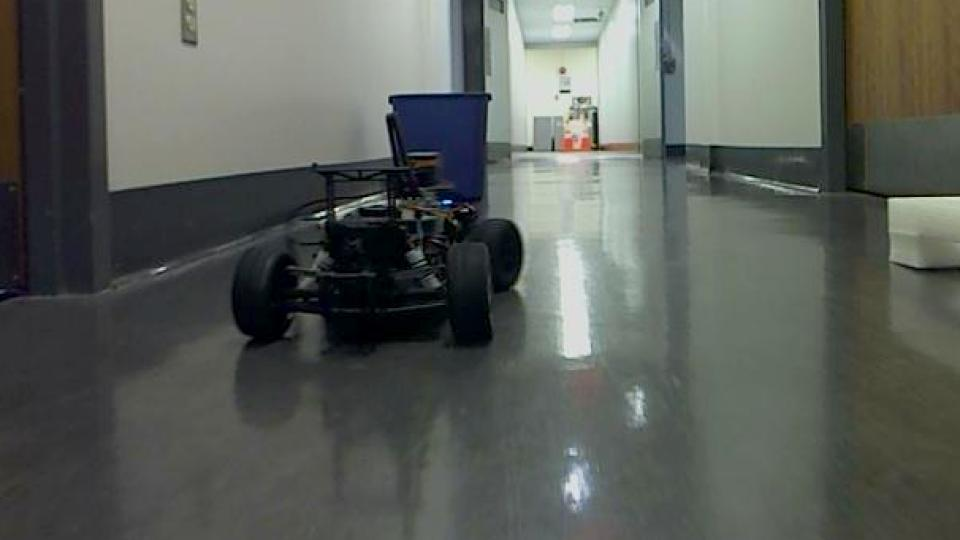car: (226, 92, 526, 351)
